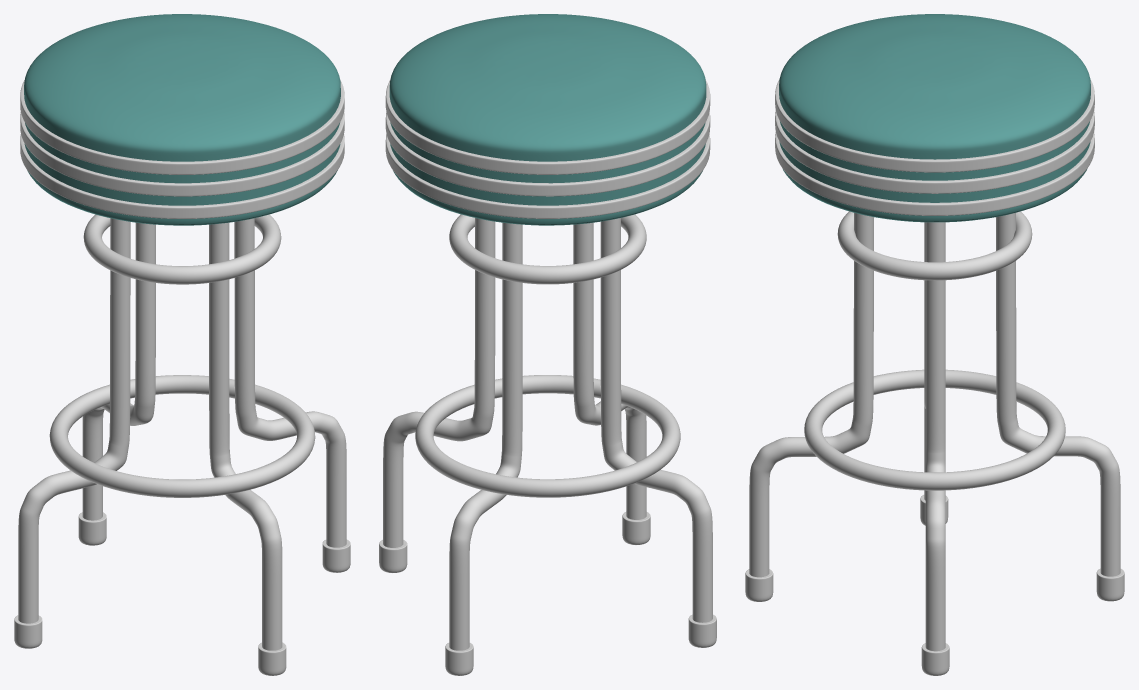
File: circle_chair.fbx
3 views of the same model, side by side, from view 1: azimuth 30°, elevation 25°; view 2: azimuth 150°, elevation 25°; view 3: azimuth 270°, elevation 25° (orthographic).
Parts seen in each view (by area): view 1: circle_chair1circle_table_setcircle_chair1_cc_Torus1cc_leg, circle_chair1circle_table_setcc_head, circle_chair_linecircle_chair1circle_table_setpCylinder12, pCylinder14circle_chair_linecircle_chair1circle_table_set, circle_chair_linecircle_chair1circle_table_setpCylinder13; view 2: circle_chair1circle_table_setcircle_chair1_cc_Torus1cc_leg, circle_chair1circle_table_setcc_head, circle_chair_linecircle_chair1circle_table_setpCylinder12, pCylinder14circle_chair_linecircle_chair1circle_table_set, circle_chair_linecircle_chair1circle_table_setpCylinder13; view 3: circle_chair1circle_table_setcc_head, circle_chair1circle_table_setcircle_chair1_cc_Torus1cc_leg, circle_chair_linecircle_chair1circle_table_setpCylinder12, pCylinder14circle_chair_linecircle_chair1circle_table_set, circle_chair_linecircle_chair1circle_table_setpCylinder13.
Boxes of the visible parts, x1,y1,x2,y2 form: circle_chair1circle_table_setcircle_chair1_cc_Torus1cc_leg: [14, 214, 350, 675]; circle_chair1circle_table_setcc_head: [24, 14, 340, 225]; circle_chair_linecircle_chair1circle_table_setpCylinder12: [20, 80, 344, 174]; pCylinder14circle_chair_linecircle_chair1circle_table_set: [20, 134, 344, 218]; circle_chair_linecircle_chair1circle_table_setpCylinder13: [20, 112, 344, 196]; circle_chair1circle_table_setcircle_chair1_cc_Torus1cc_leg: [379, 214, 716, 675]; circle_chair1circle_table_setcc_head: [389, 14, 706, 225]; circle_chair_linecircle_chair1circle_table_setpCylinder12: [385, 80, 710, 174]; pCylinder14circle_chair_linecircle_chair1circle_table_set: [385, 134, 710, 218]; circle_chair_linecircle_chair1circle_table_setpCylinder13: [385, 112, 710, 196]; circle_chair1circle_table_setcc_head: [779, 14, 1090, 222]; circle_chair1circle_table_setcircle_chair1_cc_Torus1cc_leg: [745, 211, 1124, 675]; circle_chair_linecircle_chair1circle_table_setpCylinder12: [775, 79, 1094, 172]; pCylinder14circle_chair_linecircle_chair1circle_table_set: [775, 132, 1094, 215]; circle_chair_linecircle_chair1circle_table_setpCylinder13: [775, 111, 1094, 193].
Bounding box in the file's own units: 0.5601 × 0.8777 × 0.5601.
